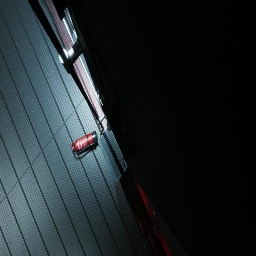EmergencyPhone ,: (101, 104, 112, 132)
FireExtinguisher ]: (70, 131, 98, 155)
